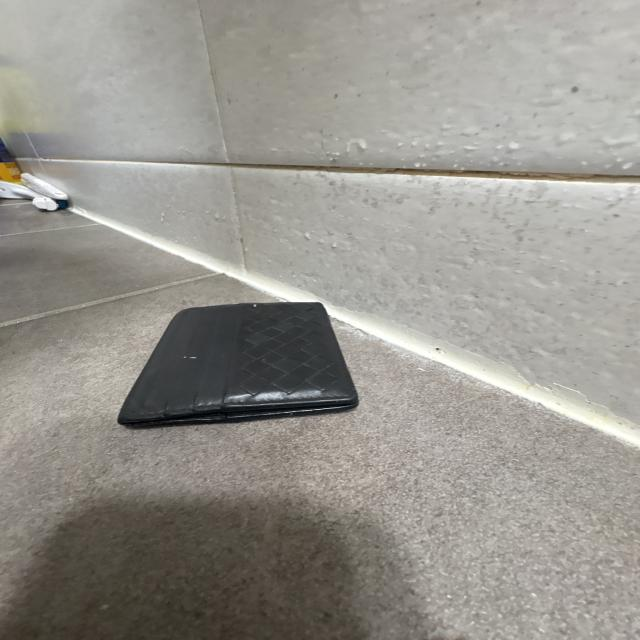wallet: (116, 300, 362, 431)
